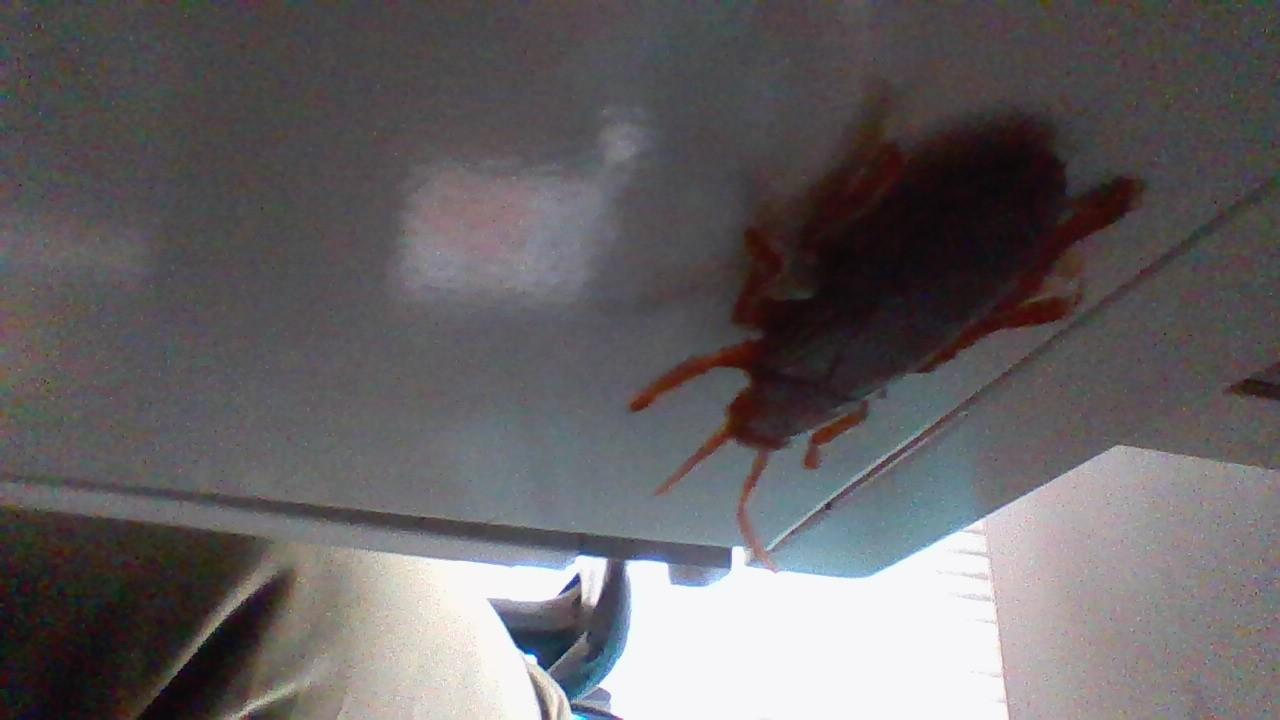cockroach: (620, 90, 1143, 567)
